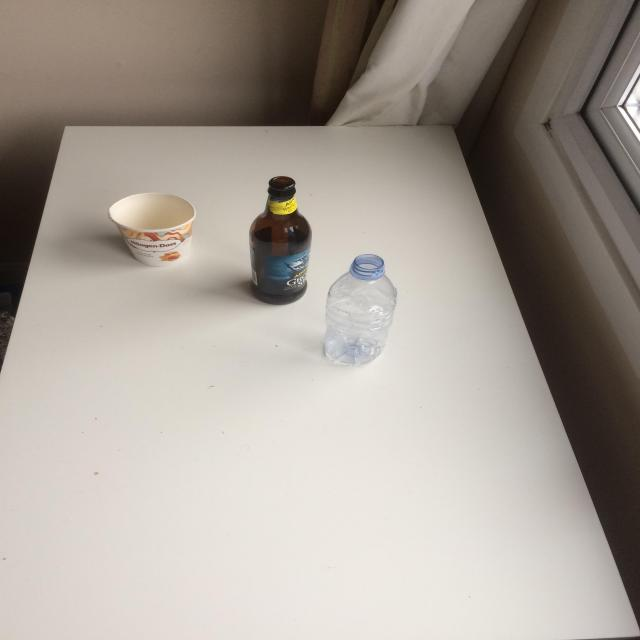Clear plastic bottle: (324, 254, 397, 365)
Glass bottle: (249, 176, 312, 305)
Paper cup: (108, 193, 196, 267)
